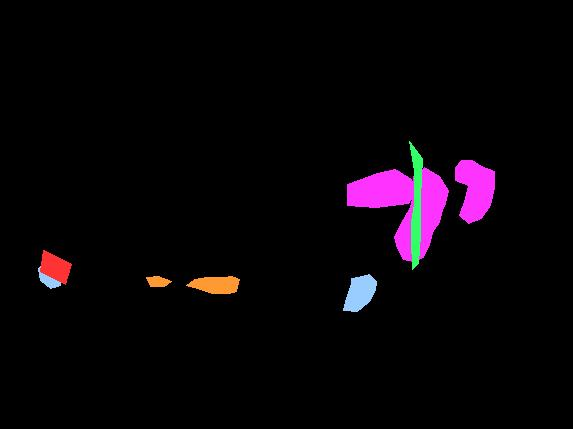Broken part: (409, 141, 422, 269)
Corrosion: (343, 274, 376, 311), (38, 261, 62, 288)
Dent: (394, 167, 448, 261), (347, 169, 416, 207), (455, 160, 494, 223)
Missing part: (40, 250, 71, 284)
Paint chip: (186, 276, 239, 293), (146, 276, 171, 286)
